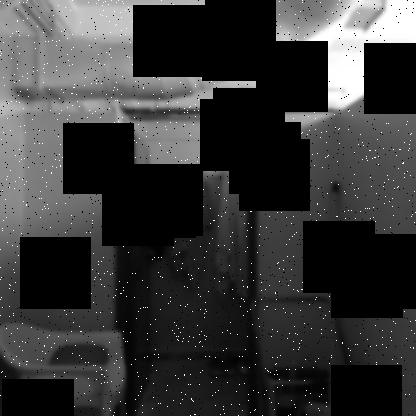Porte: (112, 125, 263, 416)
